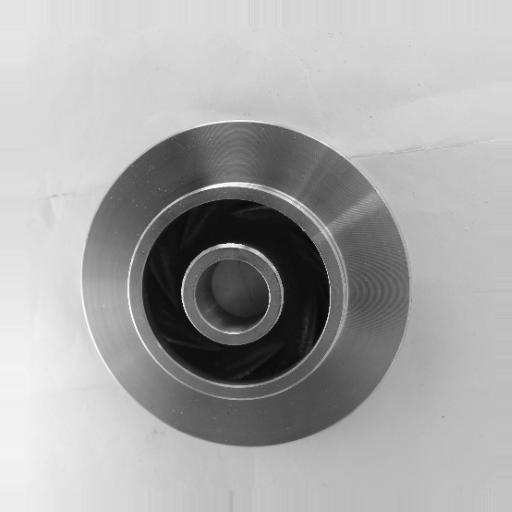polished_casting: (80, 120, 411, 447)
